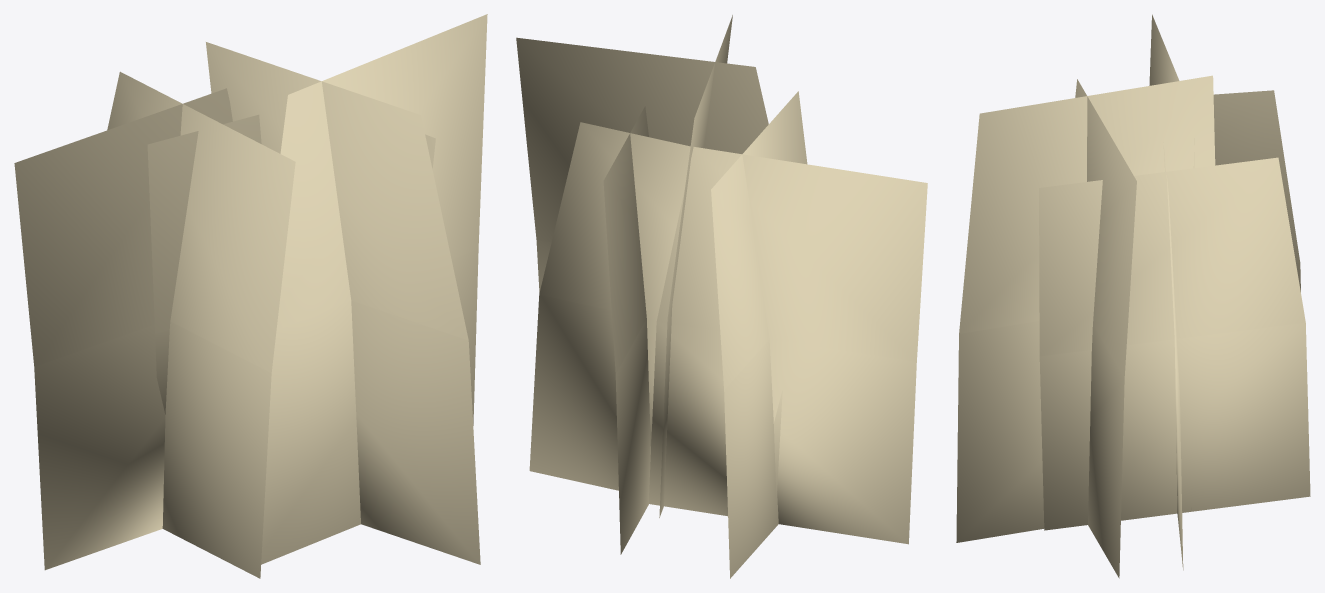
Rendered from flowers_5.glb.
3 views of the same model, side by side, from view 1: azimuth 30°, elevation 25°; view 2: azimuth 150°, elevation 25°; view 3: azimuth 270°, elevation 25° (orthographic). The views are drawn at different scales.
Visible parts, largest first — view 1: flowers_5; view 2: flowers_5; view 3: flowers_5.
Part boxes in pixels (left/top/right/bottom): flowers_5: left=14, top=14, right=487, bottom=578; flowers_5: left=516, top=15, right=927, bottom=578; flowers_5: left=956, top=14, right=1310, bottom=578.
Size of the model in its own units: 1.05 by 0.9735 by 0.7641.
